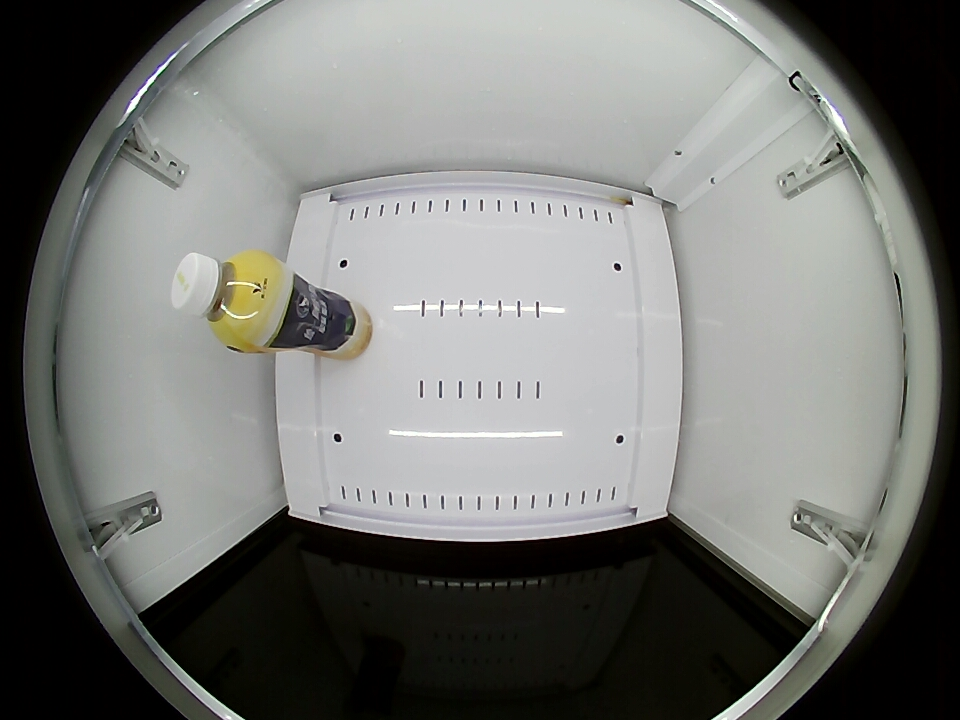asamu: (171, 250, 278, 349)
